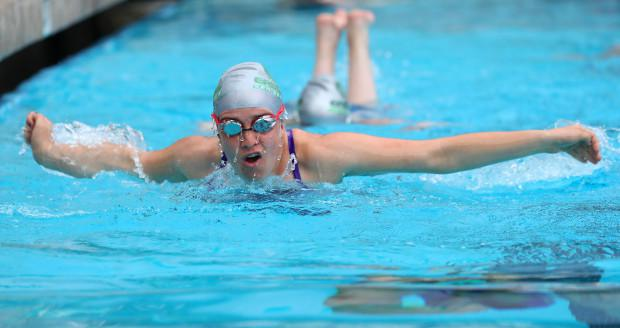human: (27, 15, 602, 188)
